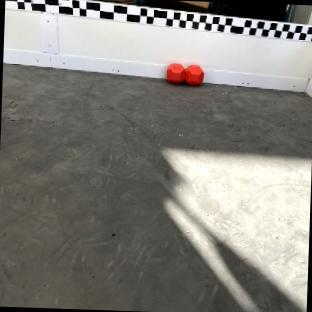V5_RED: (166, 63, 204, 85)
